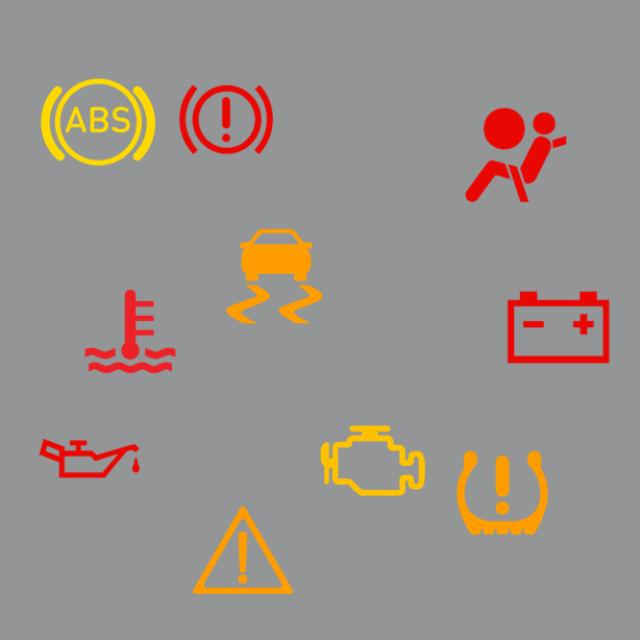Anti Lock Braking System: (36, 59, 160, 184)
Braking System Issue: (164, 58, 288, 182)
Charging System Issue: (496, 265, 621, 390)
Check Engine: (310, 398, 436, 523)
Electronic Stability Problem -ESP-: (212, 214, 336, 338)
Engine Overheating Warning Light: (68, 269, 193, 394)
Low Engine Oil Warning Light: (27, 396, 152, 521)
Low Tire Pressure Warning Light: (440, 430, 565, 556)
Master warning light: (180, 488, 306, 613)
SRS-Airbag: (454, 93, 578, 218)
